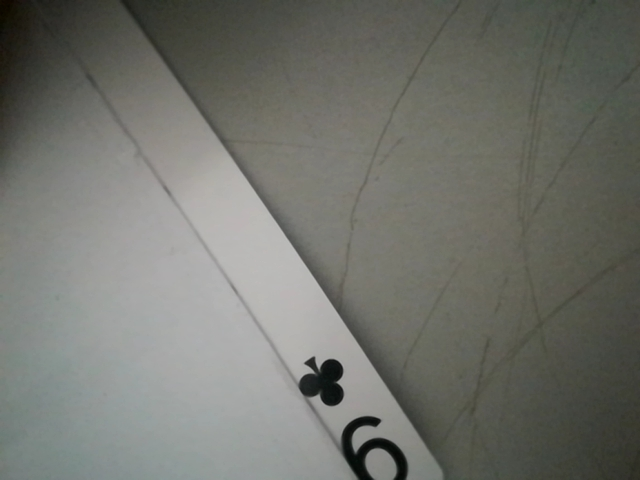mh 9: (290, 346, 433, 480)
